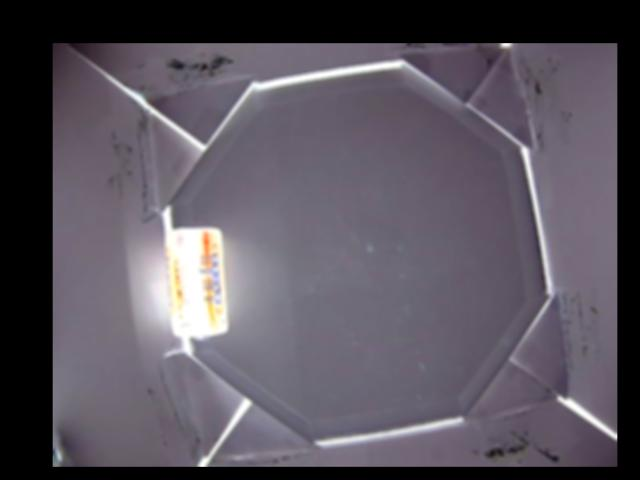Battery: (167, 226, 227, 341)
